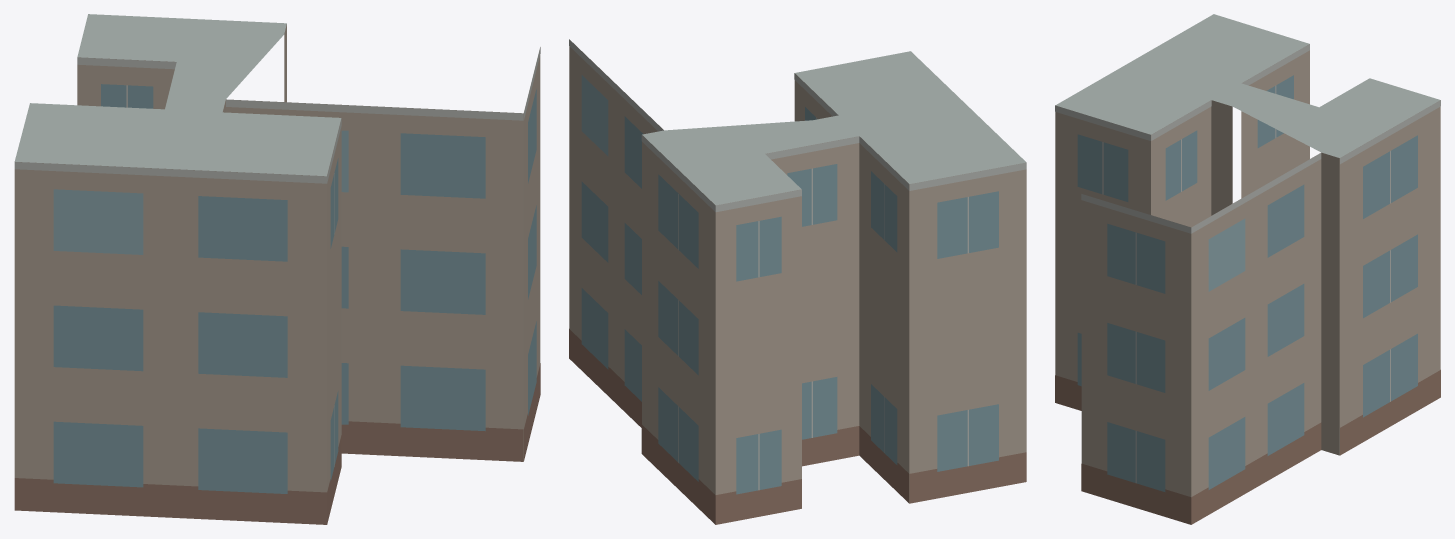
Rendered from survey-upis-33026434.glb.
3 views of the same model, side by side, from view 1: azimuth 30°, elevation 25°; view 2: azimuth 150°, elevation 25°; view 3: azimuth 270°, elevation 25° (orthographic). The views are drawn at different scales.
Parts seen in each view (by area): view 1: survey-upis-33026434.tmp; view 2: survey-upis-33026434.tmp; view 3: survey-upis-33026434.tmp.
Part boxes in pixels (x1,y1,x2,y2): survey-upis-33026434.tmp: (14, 14, 540, 524); survey-upis-33026434.tmp: (569, 39, 1026, 524); survey-upis-33026434.tmp: (1055, 14, 1440, 524).
Bounding box in the file's own units: 17.5 × 11.37 × 13.36.
